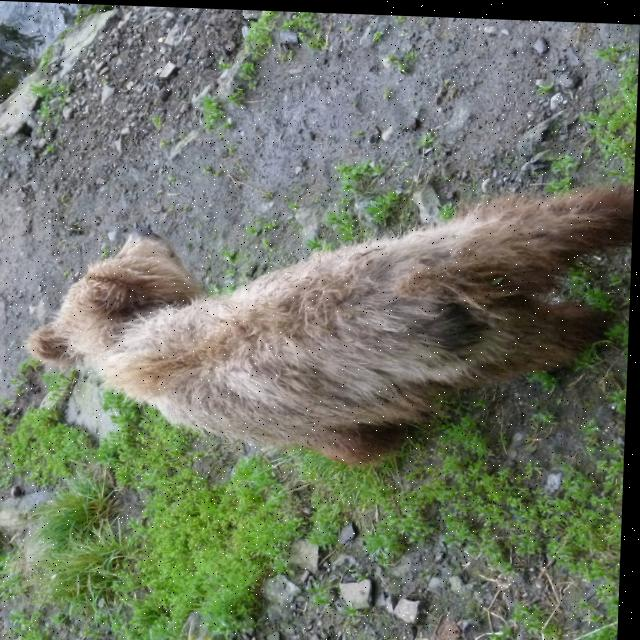bear face: (24, 163, 635, 470)
